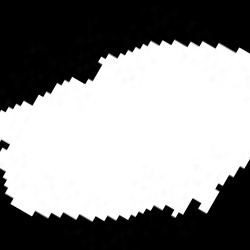spot: (1, 40, 248, 224)
